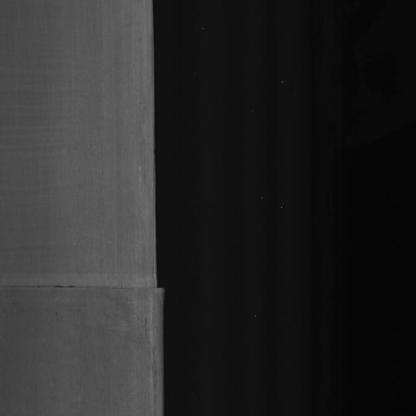welding_line: (2, 268, 170, 305)
